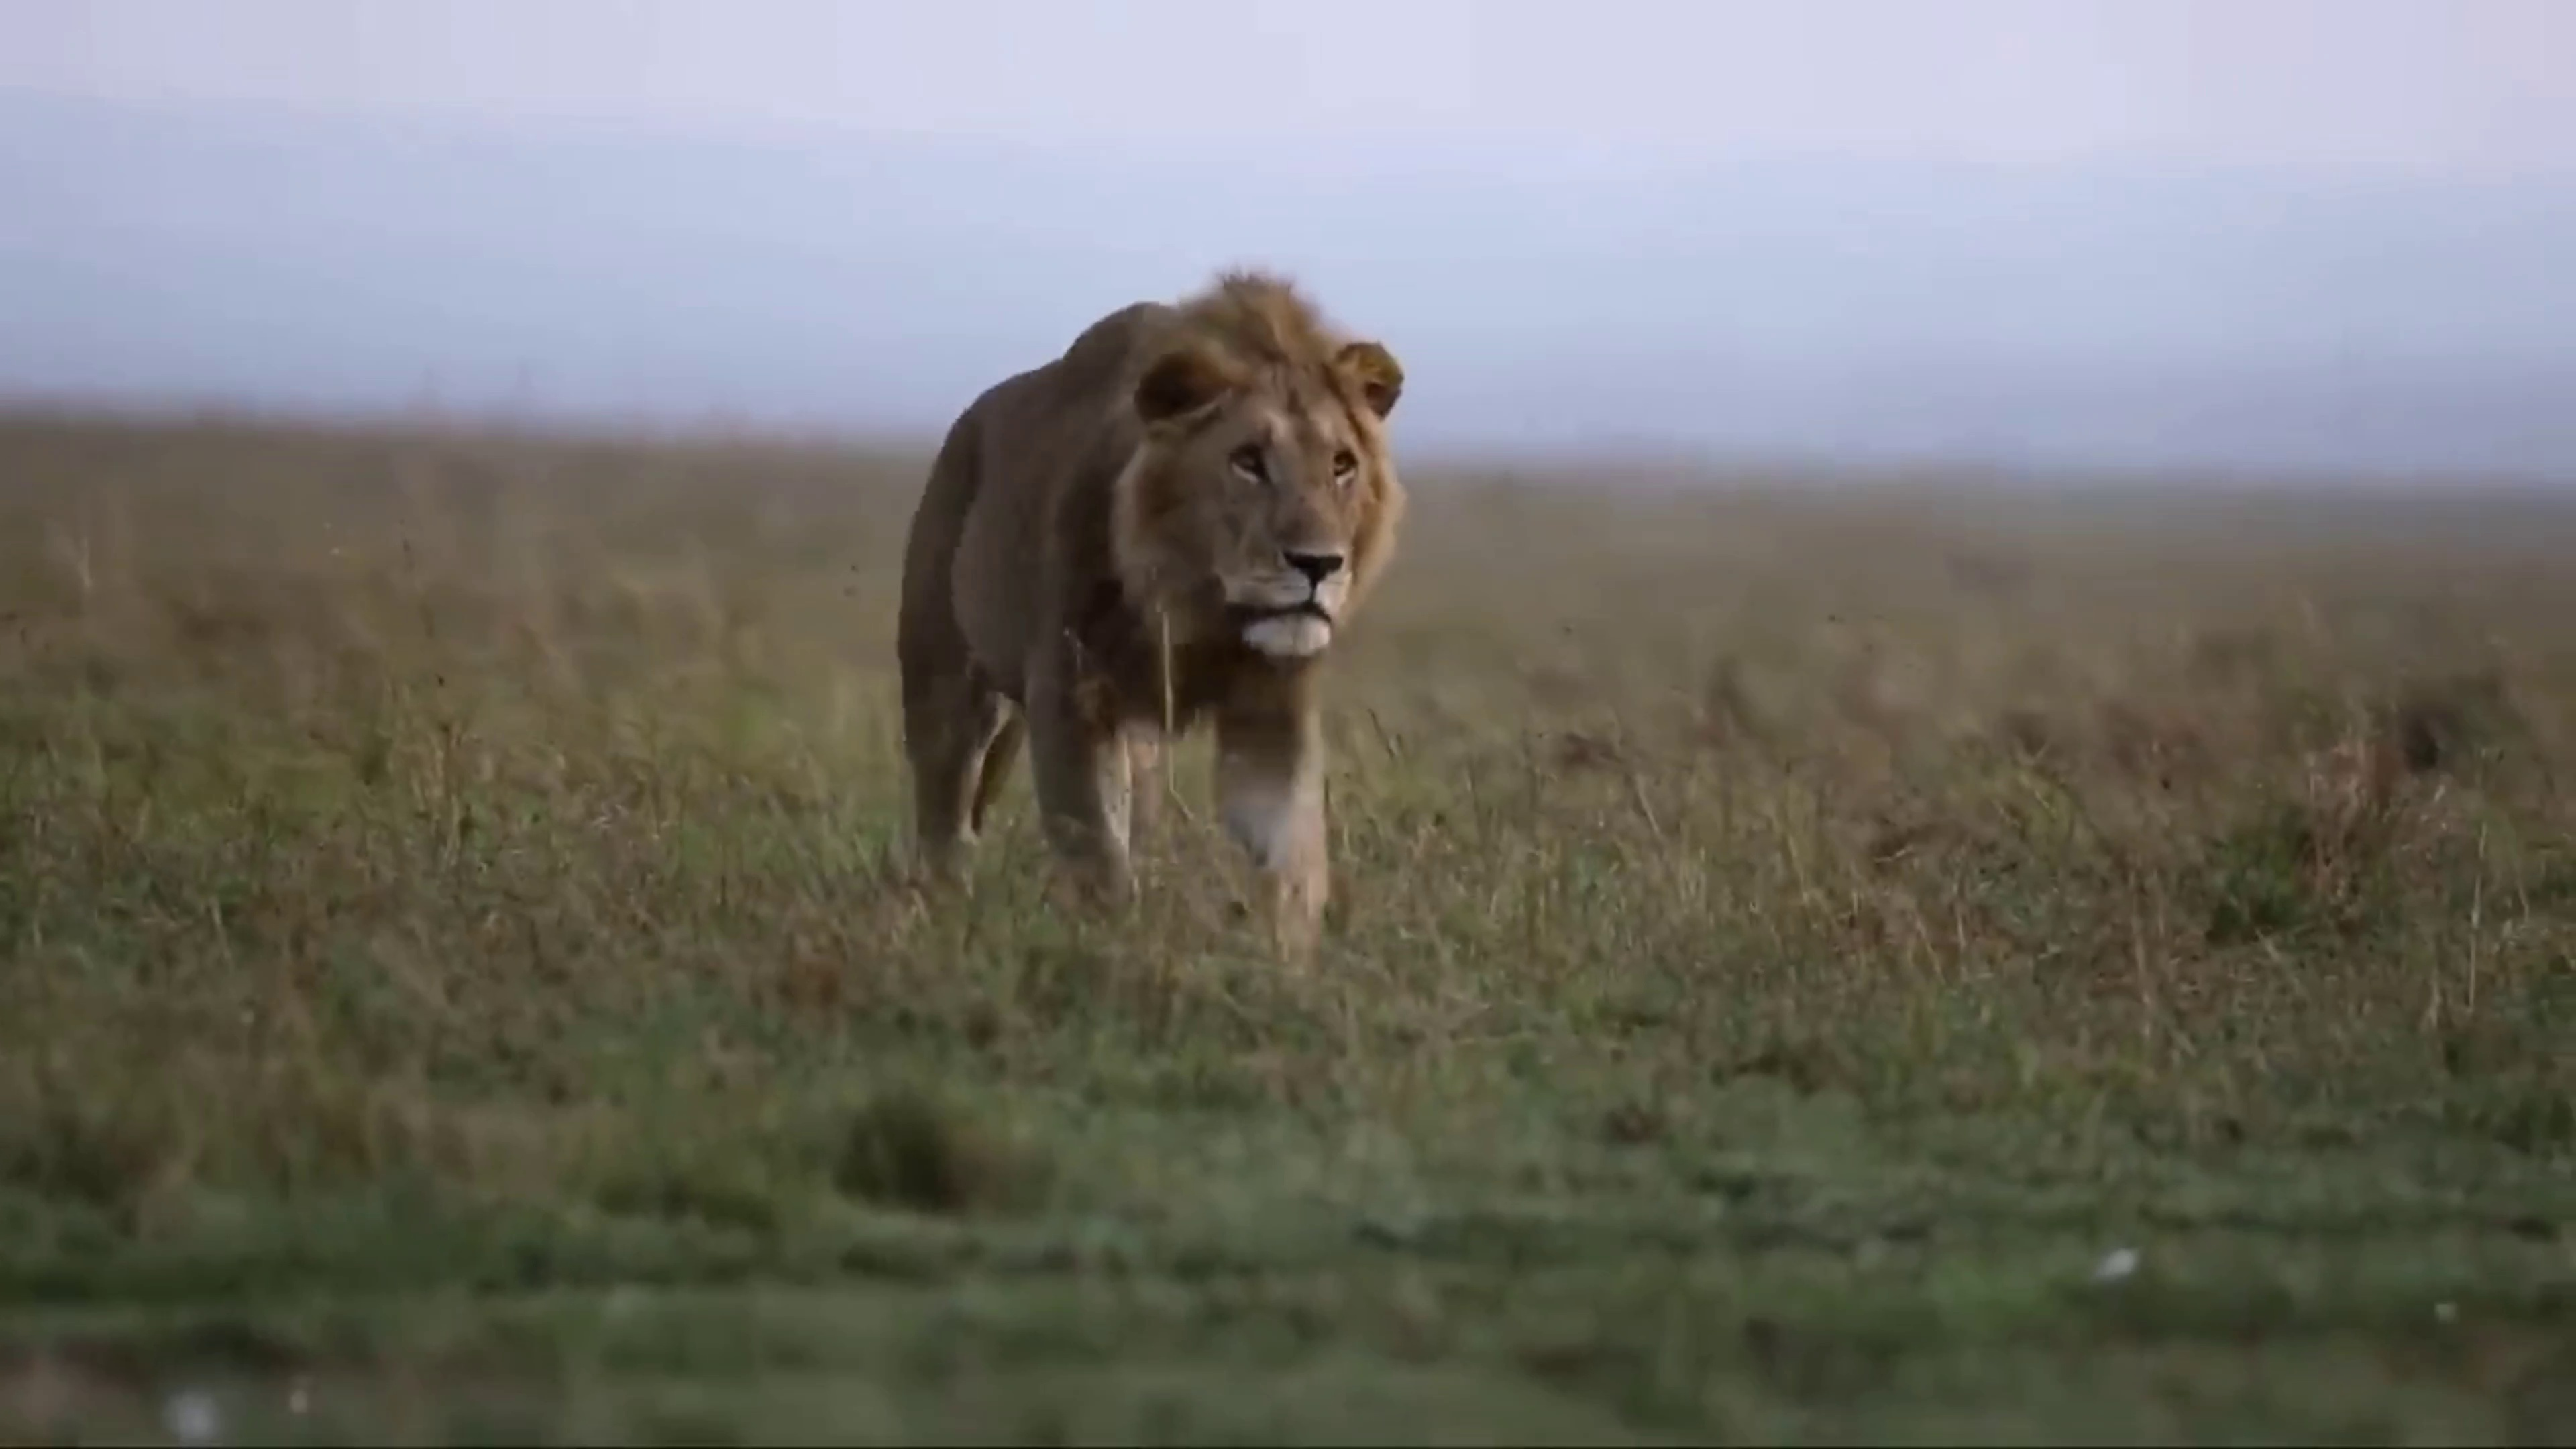Lion: (897, 262, 1410, 955)
